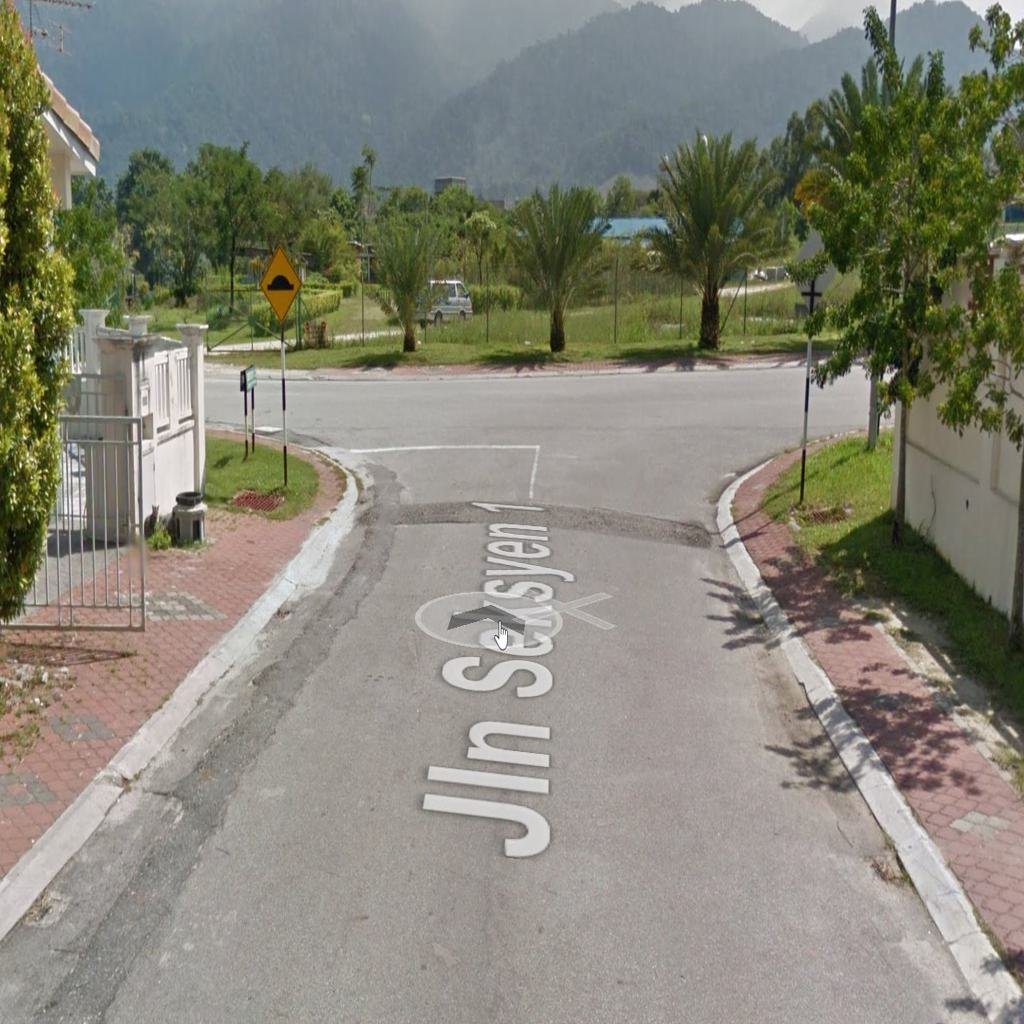Junction: (663, 340, 892, 517), (209, 358, 423, 502)
